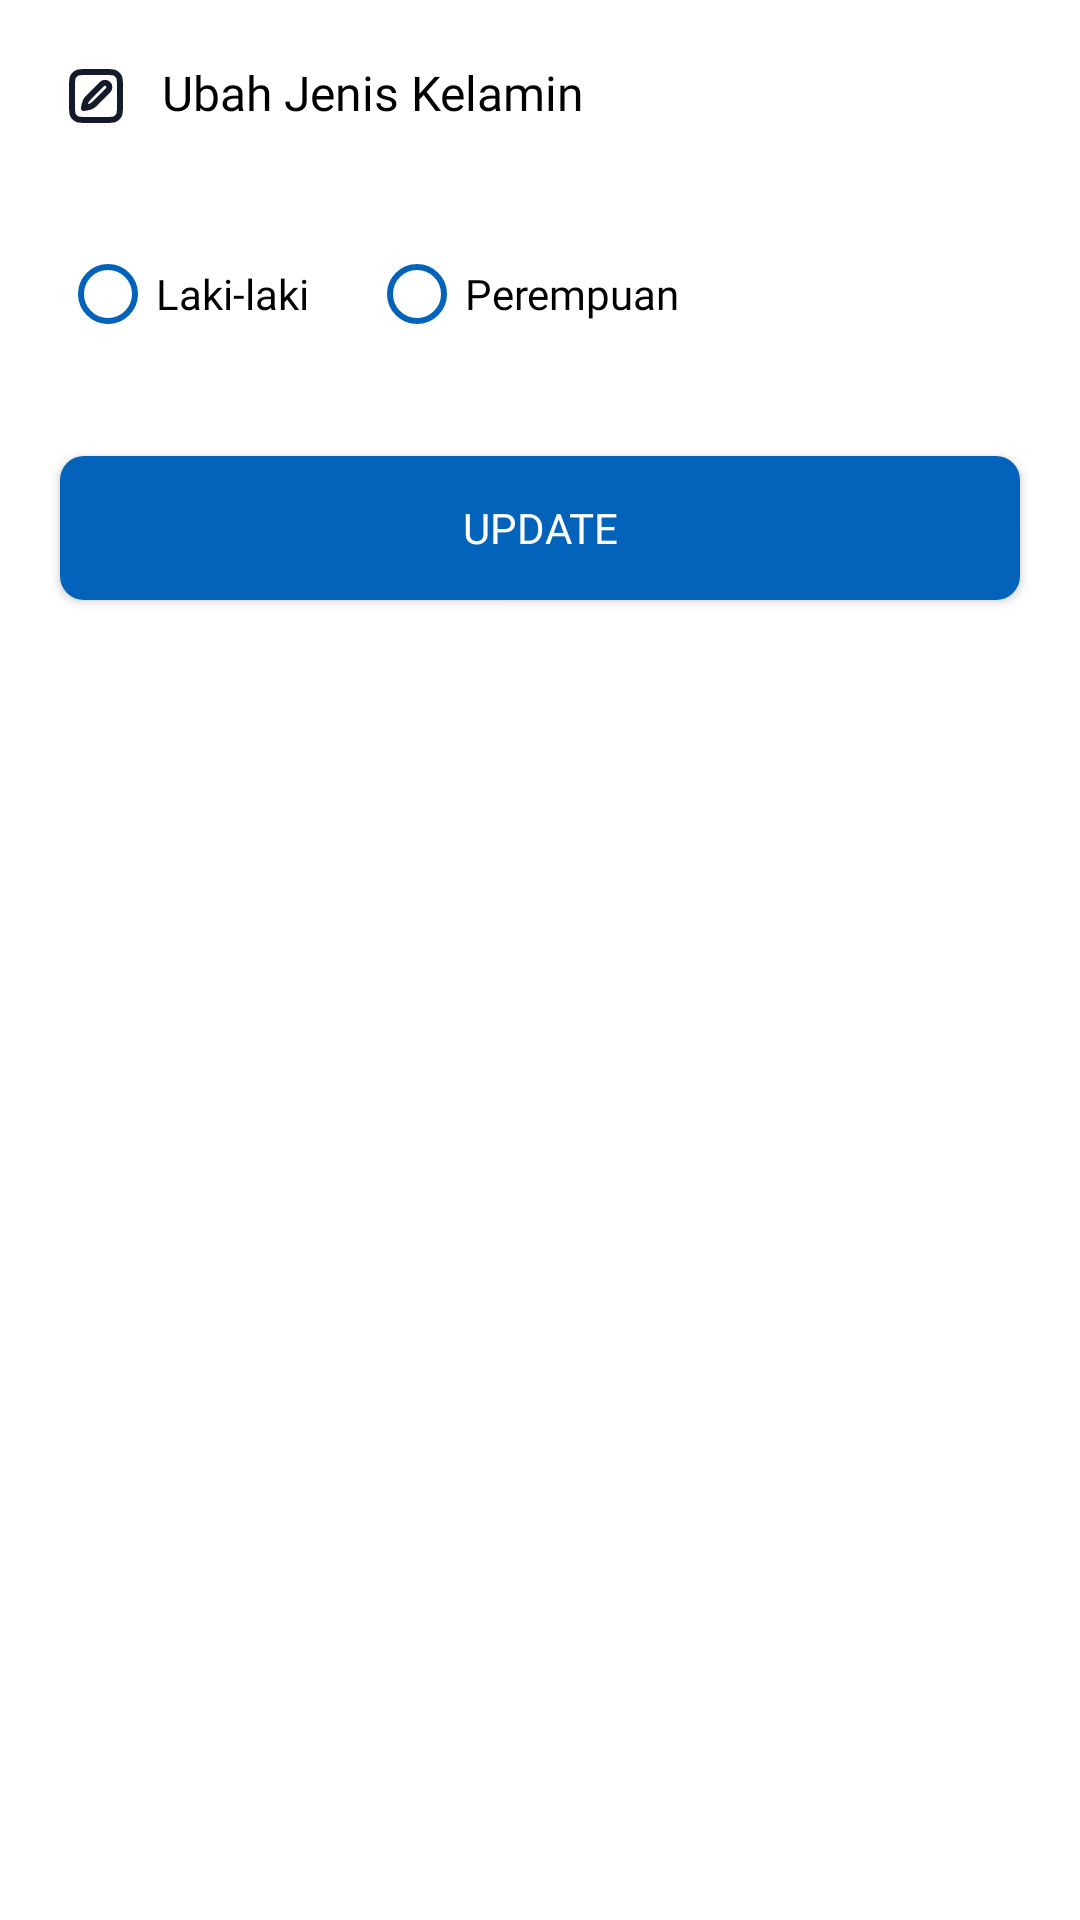

Icon bounding boxes for this 1080x1920 phone screenshot, format rect(x1, y1, x2, y2):
square pen: rect(69, 69, 123, 123)
